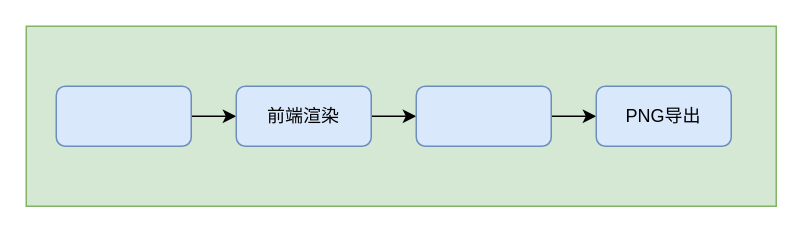
Some shapes in this 803 by 233 pixel diagram are drawn without their labels. Here are the shapes that lost their labels. From the top down, the centre of each, then its label:
At (123,115): "Base64结果图".
At (483,115): "展示圆心 半径指标".
